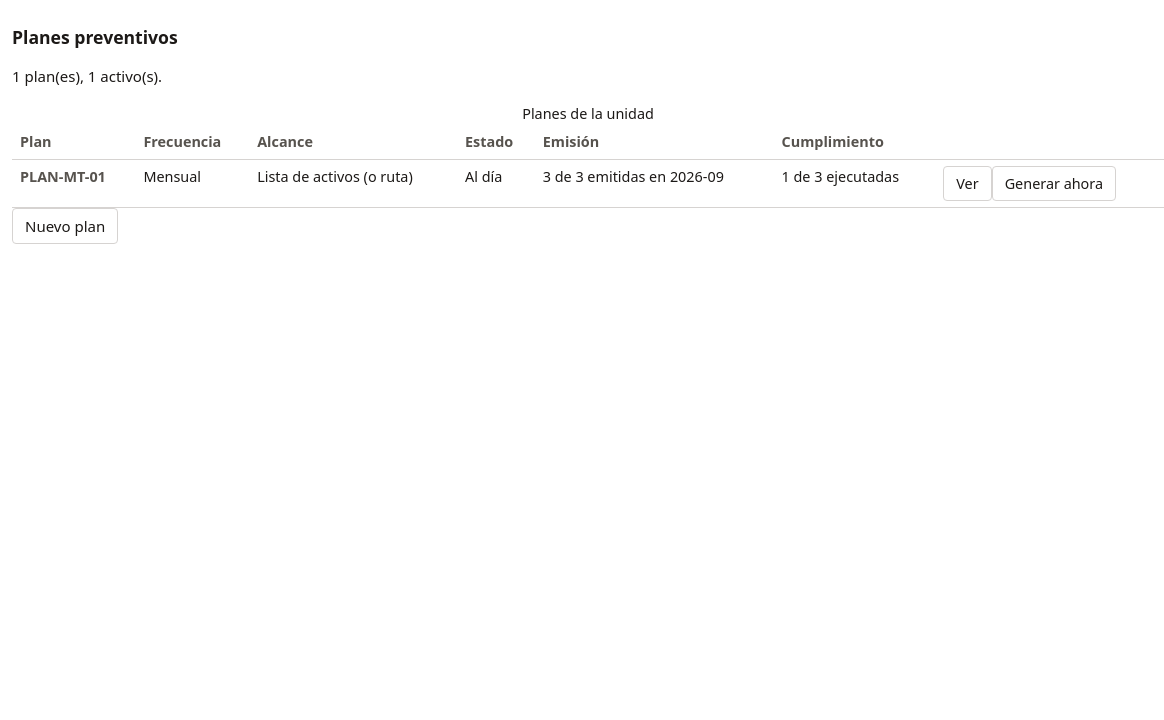
Scenario: generar ahora › informa cuántas emitió y qué se saltó
What coordinates should you click on to do the following:
click the button "Generar ahora"
I would click on:
 (1054, 184)
Its box is [992, 166, 1116, 201].
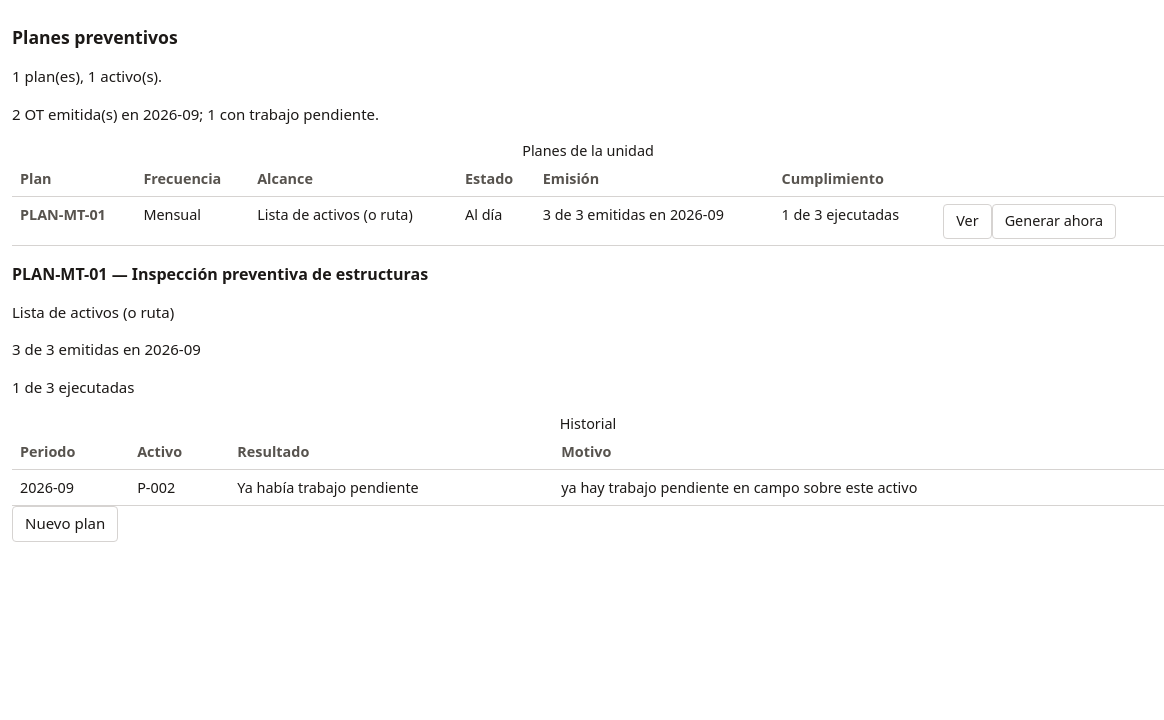
Expected: the message shows "1 con trabajo pendiente", [12, 104, 379, 124]
